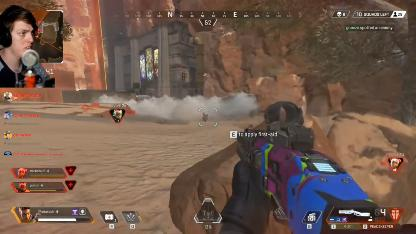Target: (201, 112, 209, 122)
